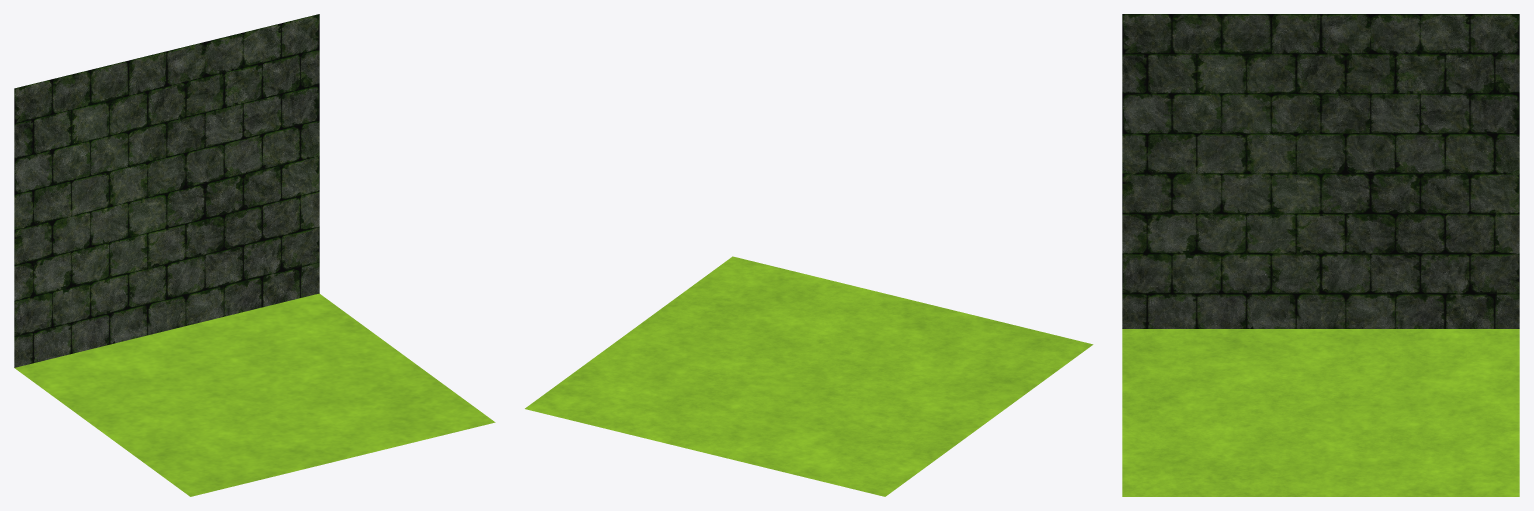
The model's file is grass_corner.glb.
3 renders of one model, left to right at view 1: azimuth 30°, elevation 25°; view 2: azimuth 150°, elevation 25°; view 3: azimuth 270°, elevation 25°, orthographic. The views are drawn at different scales.
Visible parts, largest first — view 1: ground; view 2: ground; view 3: ground.
Part boxes in pixels (left/top/right/bottom): ground: left=14, top=14, right=495, bottom=496; ground: left=525, top=256, right=1093, bottom=496; ground: left=1122, top=14, right=1519, bottom=496.
Size of the model in its own units: 2 by 1.75 by 2.
2 materials, 2 textured.
